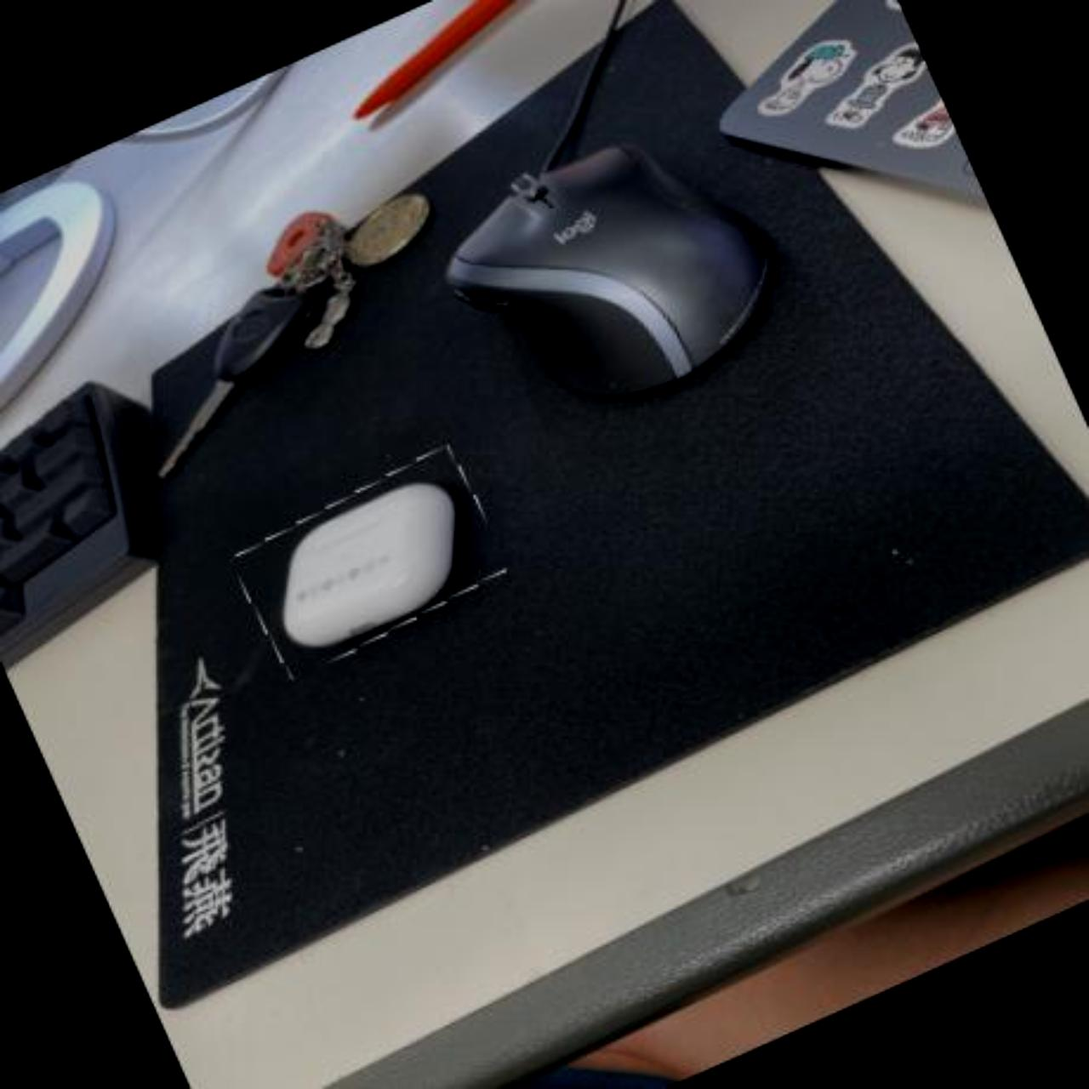AirPods: (226, 444, 514, 678)
